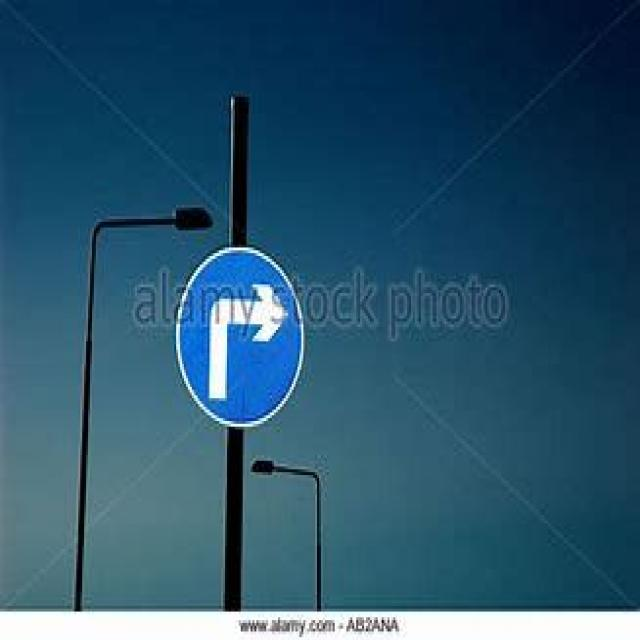COMPULSARY_TURN_RIGHT_AHEAD: (172, 239, 302, 424)
